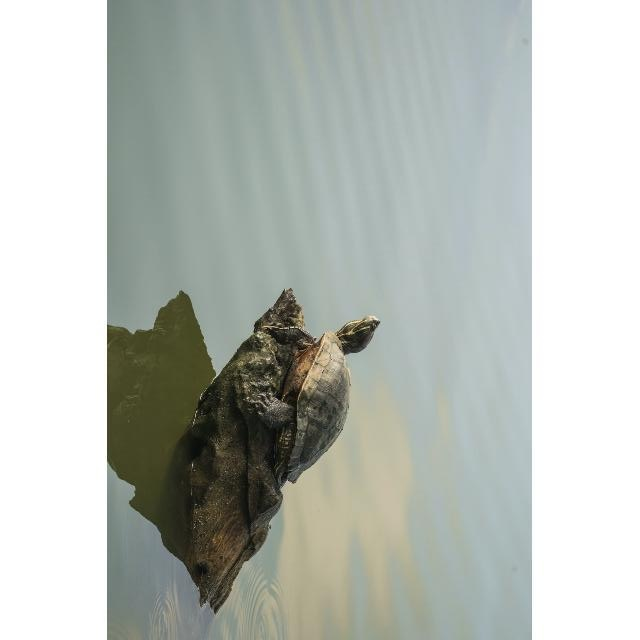turtle: (249, 314, 383, 487)
